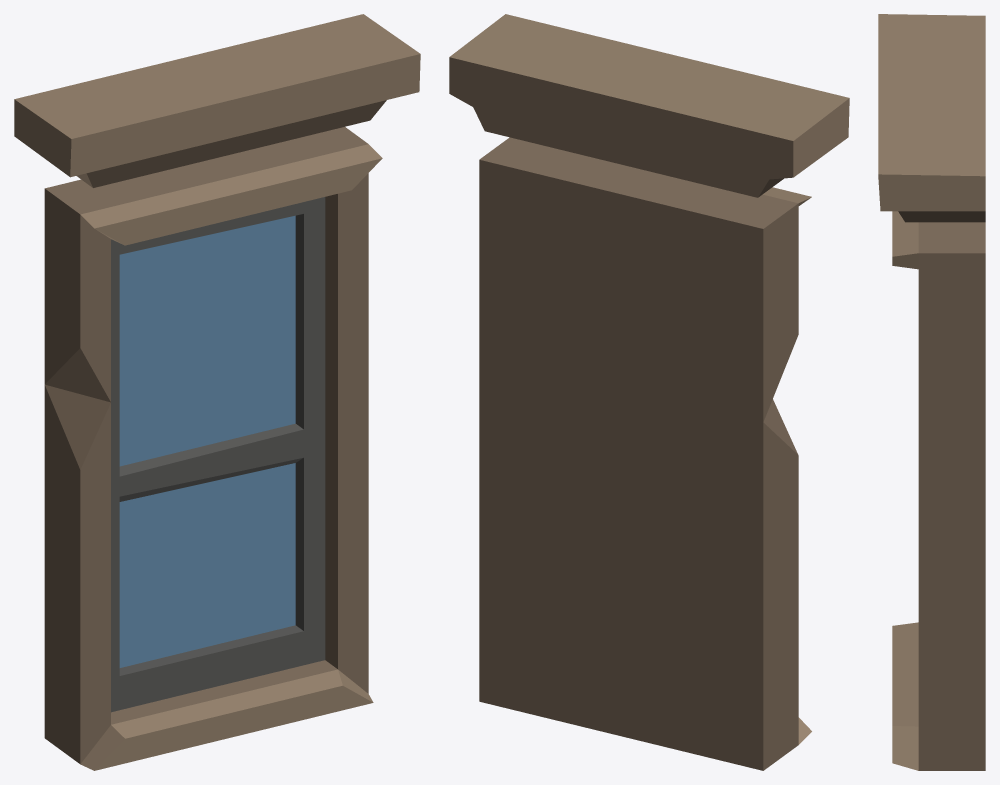
The model's file is SM_Prop_Window_01.glb.
3 renders of one model, left to right at view 1: azimuth 30°, elevation 25°; view 2: azimuth 150°, elevation 25°; view 3: azimuth 270°, elevation 25°, orthographic. The views are drawn at different scales.
Visible parts, largest first — view 1: SM_Prop_Window_01; view 2: SM_Prop_Window_01; view 3: SM_Prop_Window_01.
Boxes of the visible parts, <box> form: SM_Prop_Window_01: <box>14,14,420,770</box>; SM_Prop_Window_01: <box>449,14,849,770</box>; SM_Prop_Window_01: <box>878,14,985,770</box>.
Bounding box in the file's own units: 0.013 × 0.0231 × 0.0037.
1 material, 1 textured.
